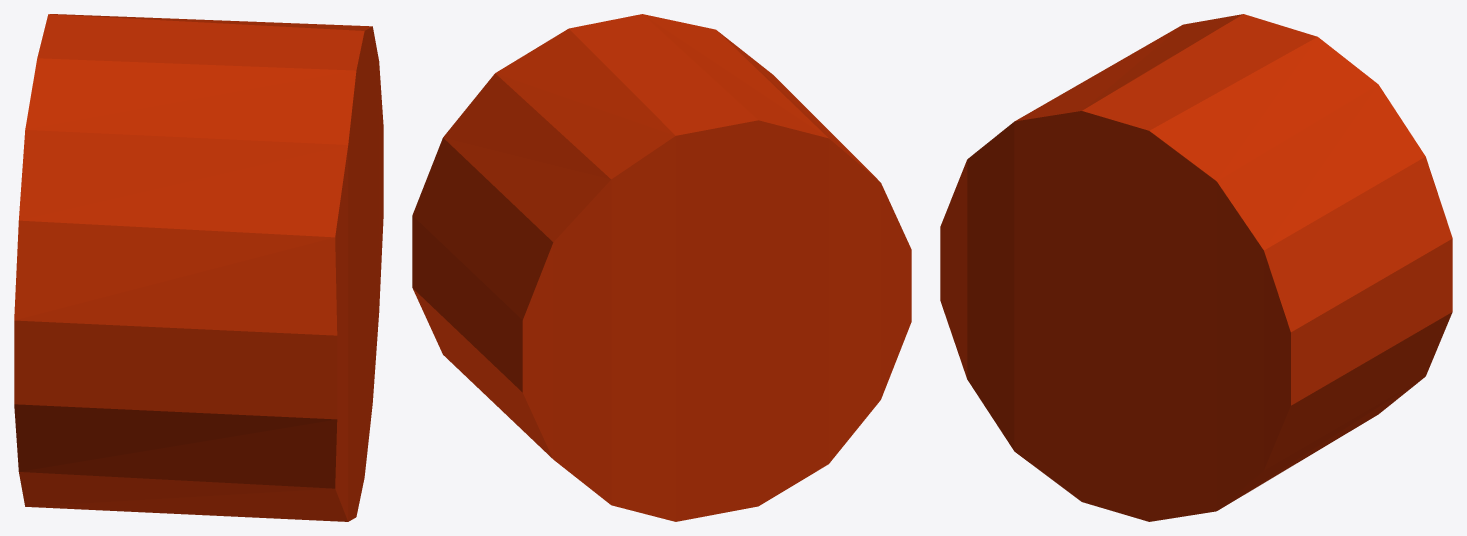
File: original-4.obj
The picture shows the model from 3 angles, left to right: view 1: azimuth 30°, elevation 25°; view 2: azimuth 150°, elevation 25°; view 3: azimuth 270°, elevation 25°; orthographic projection. The views are drawn at different scales.
Visible parts, largest first — view 1: mesh3/mesh3-geometry#mesh3-geometry; view 2: mesh3/mesh3-geometry#mesh3-geometry; view 3: mesh3/mesh3-geometry#mesh3-geometry.
Boxes of the visible parts, <box> form: mesh3/mesh3-geometry#mesh3-geometry: <box>14,14,383,521</box>; mesh3/mesh3-geometry#mesh3-geometry: <box>412,14,911,521</box>; mesh3/mesh3-geometry#mesh3-geometry: <box>940,14,1452,521</box>.
Bounding box in the file's own units: 0.0937 × 0.0844 × 0.1003.
